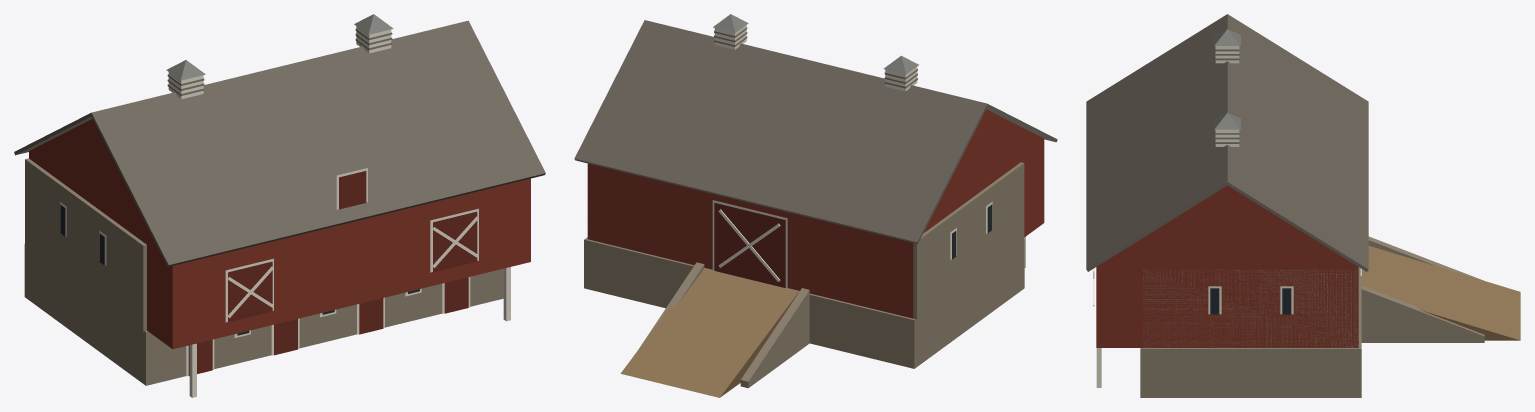
The model's file is hero_barn.glb.
3 renders of one model, left to right at view 1: azimuth 30°, elevation 25°; view 2: azimuth 150°, elevation 25°; view 3: azimuth 270°, elevation 25°, orthographic. The views are drawn at different scales.
Parts seen in each view (by area): view 1: hero_barn; view 2: hero_barn; view 3: hero_barn.
Part boxes in pixels (x1,y1,x2,y2): hero_barn: [14, 14, 545, 397]; hero_barn: [574, 14, 1057, 397]; hero_barn: [1086, 14, 1520, 397].
Bounding box in the file's own units: 22.1 × 15.1 × 24.15.
